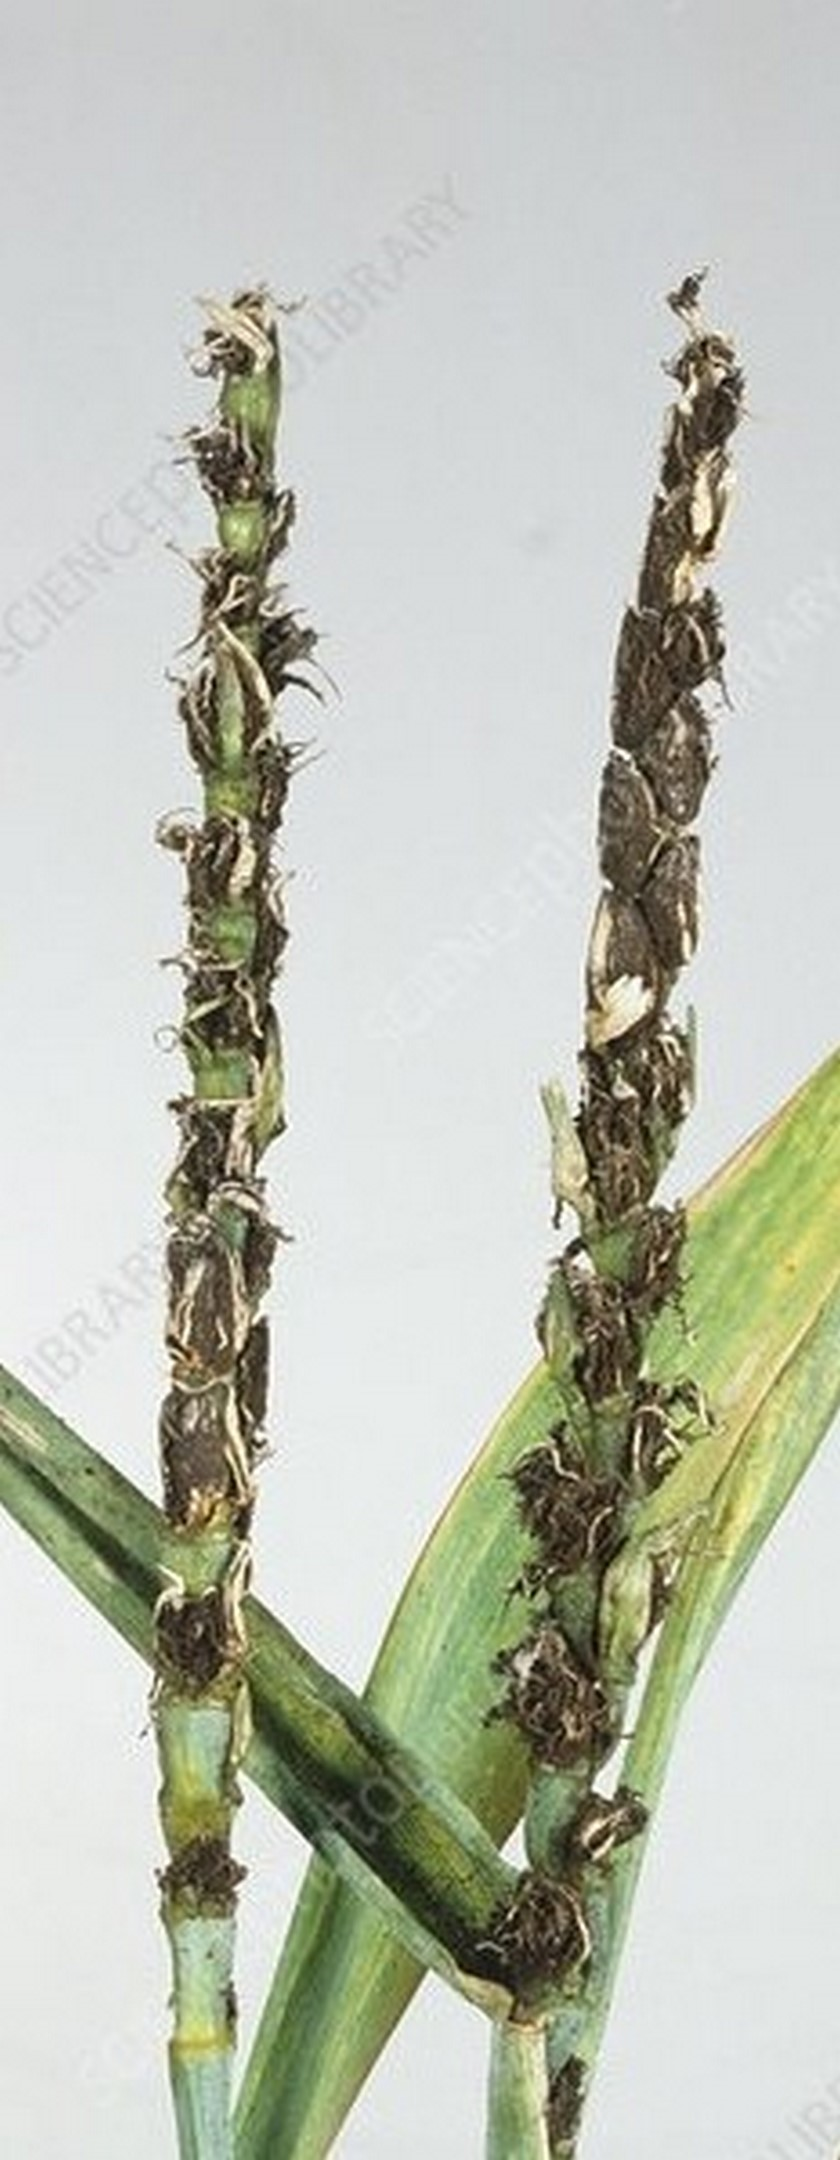Wheat Loose Smut: (103, 225, 768, 1752)
